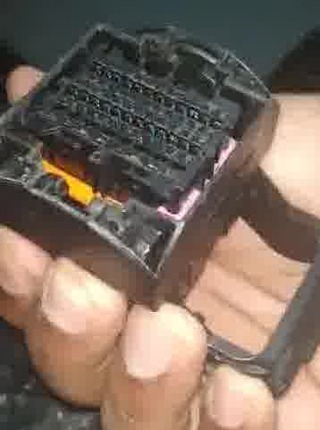connector: (1, 22, 281, 312)
